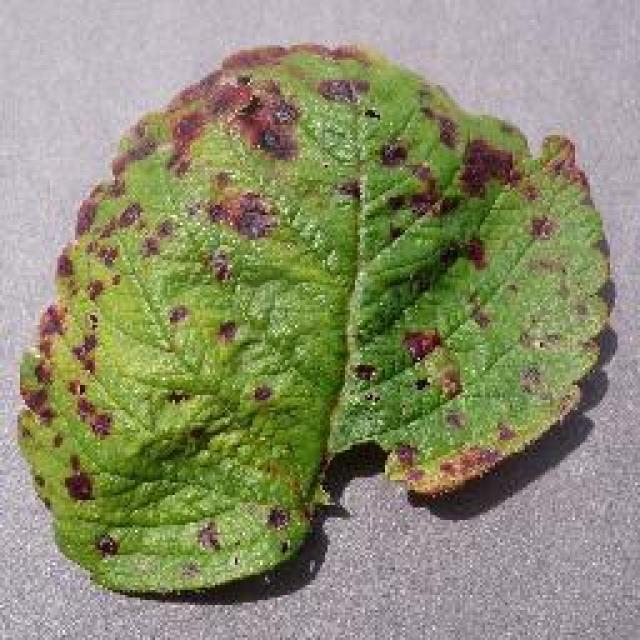Strawberry leaf scorch: (155, 95, 487, 355)
